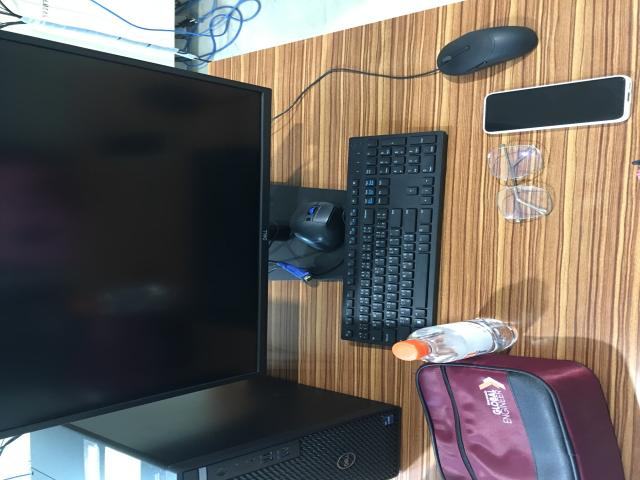Glasses: (484, 142, 556, 224)
Mobile phone: (482, 72, 631, 135)
Mouse: (437, 26, 540, 77), (289, 200, 345, 254)
bottle: (393, 319, 519, 366)
